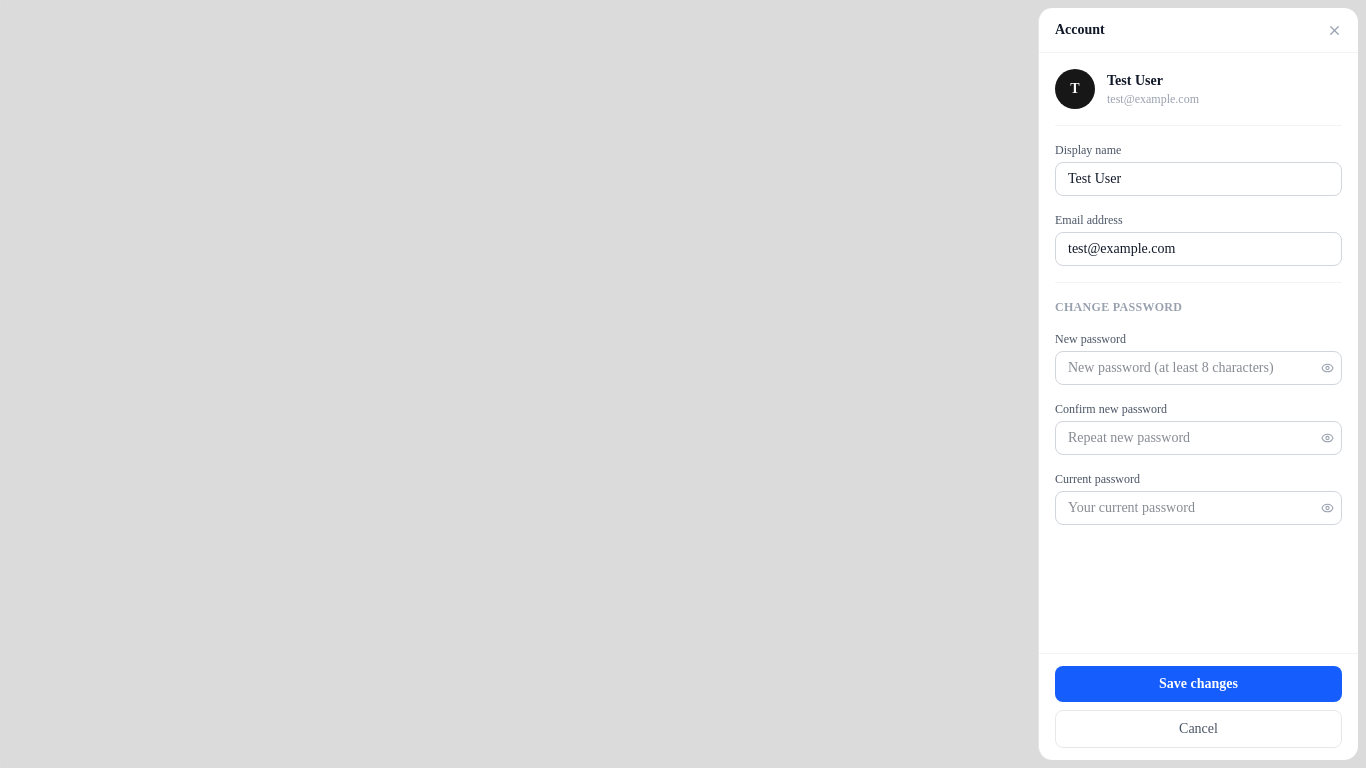
Test: AccountSheet › shows validation error when name is cleared on submit
Clear the field showing "Test User" below "Display name" at coordinates (1198, 179), box x1=1055 y1=162 x2=1342 y2=196
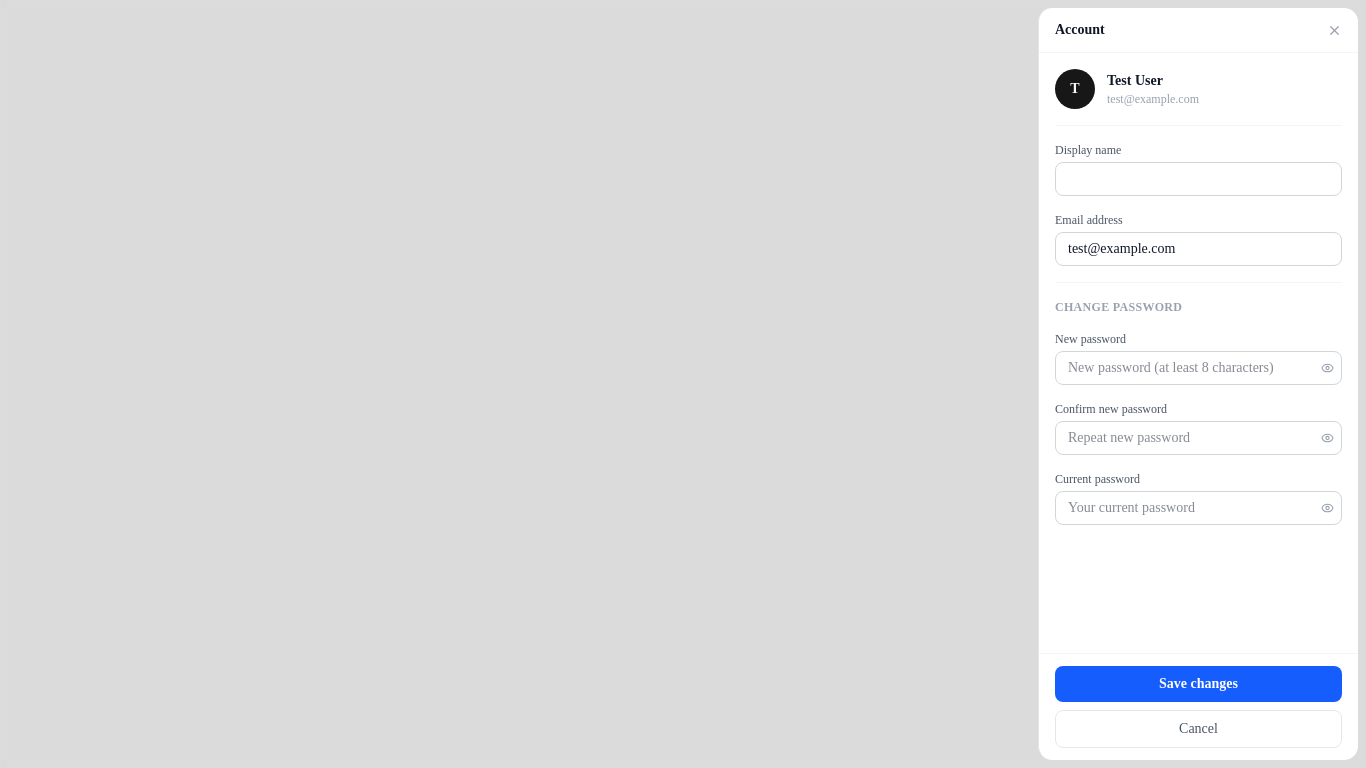
Click the button "Save changes" at coordinates (1198, 684), box x1=1055 y1=666 x2=1342 y2=702
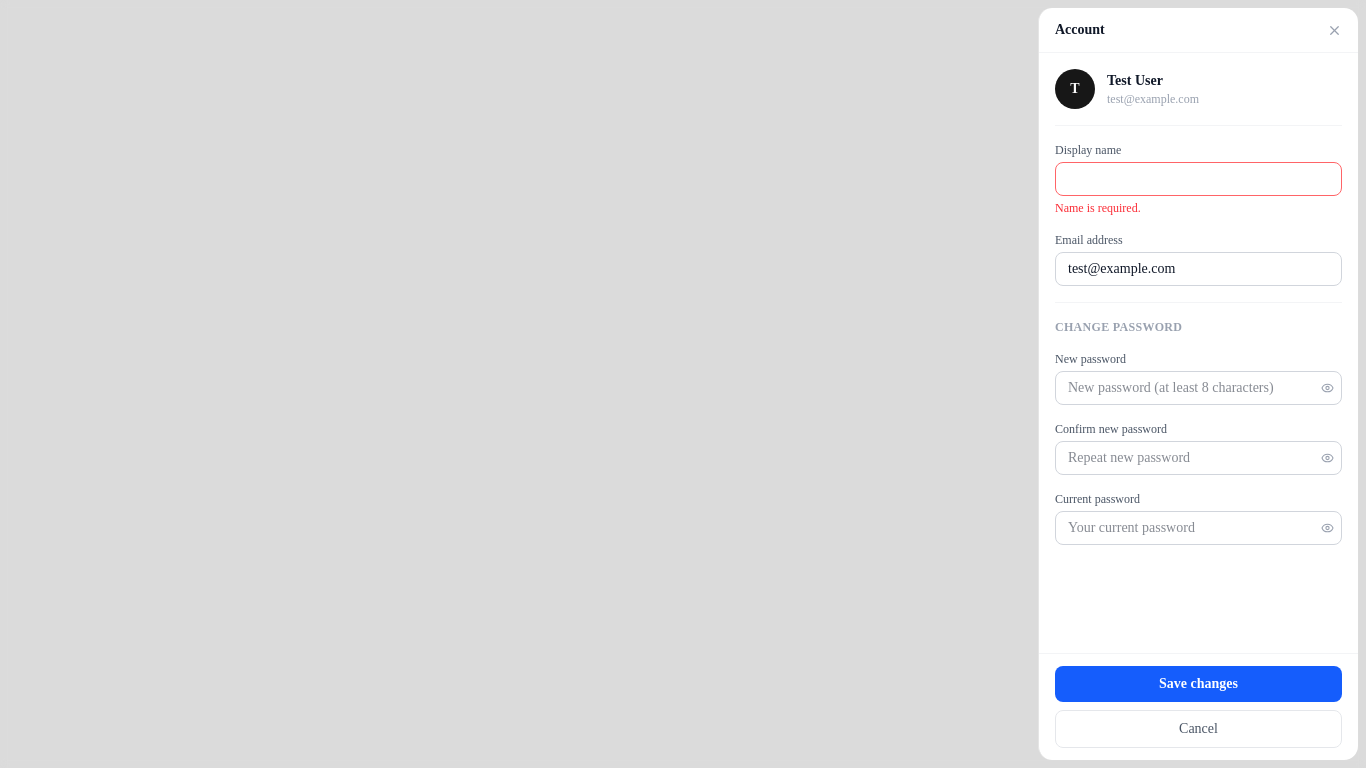
expect the text "Name is required." is shown: met, box x1=1055 y1=201 x2=1141 y2=215
